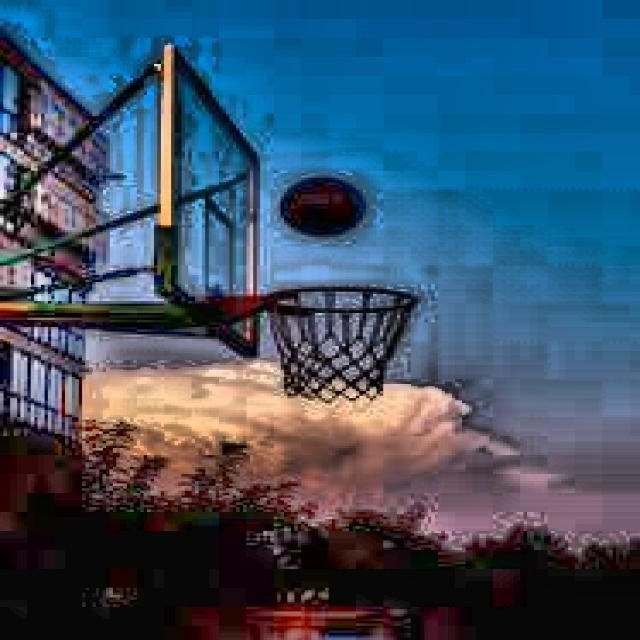rim: (265, 283, 416, 402)
